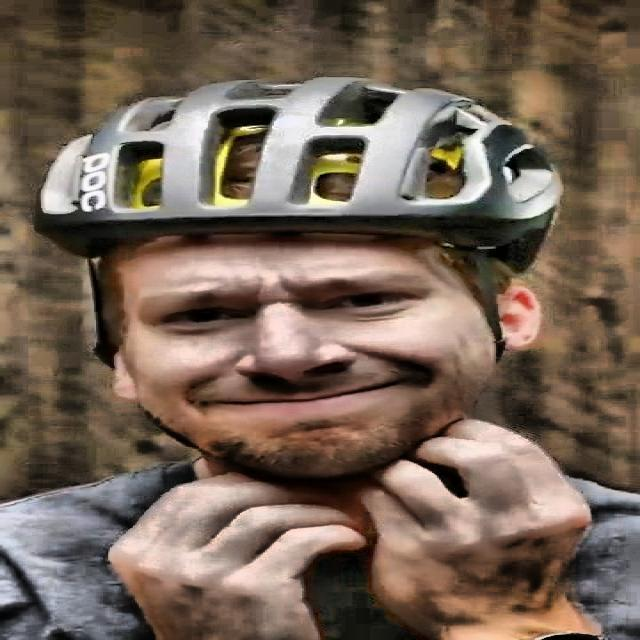face: (110, 230, 498, 477)
helmet: (32, 77, 567, 275)
